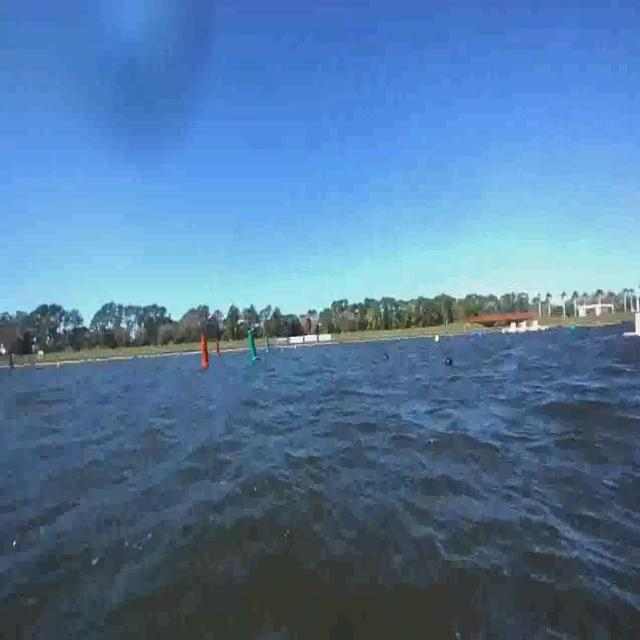black-buoy: (446, 358, 454, 367), (384, 356, 392, 358)
green-column-buoy: (247, 329, 259, 362)
red-column-buoy: (200, 332, 212, 369)
